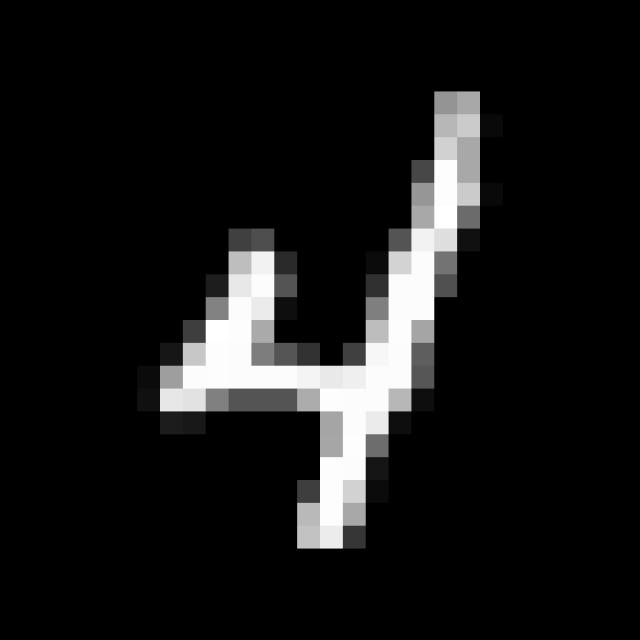four -4-: (137, 66, 510, 575)
